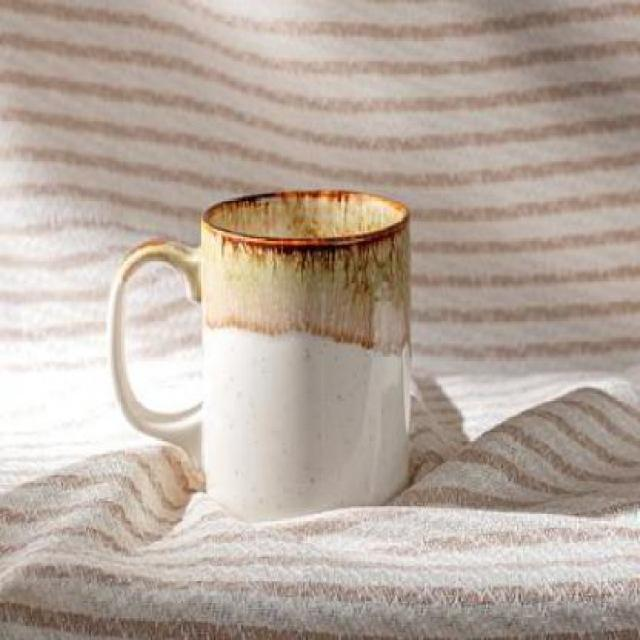taza: (109, 184, 415, 526)
